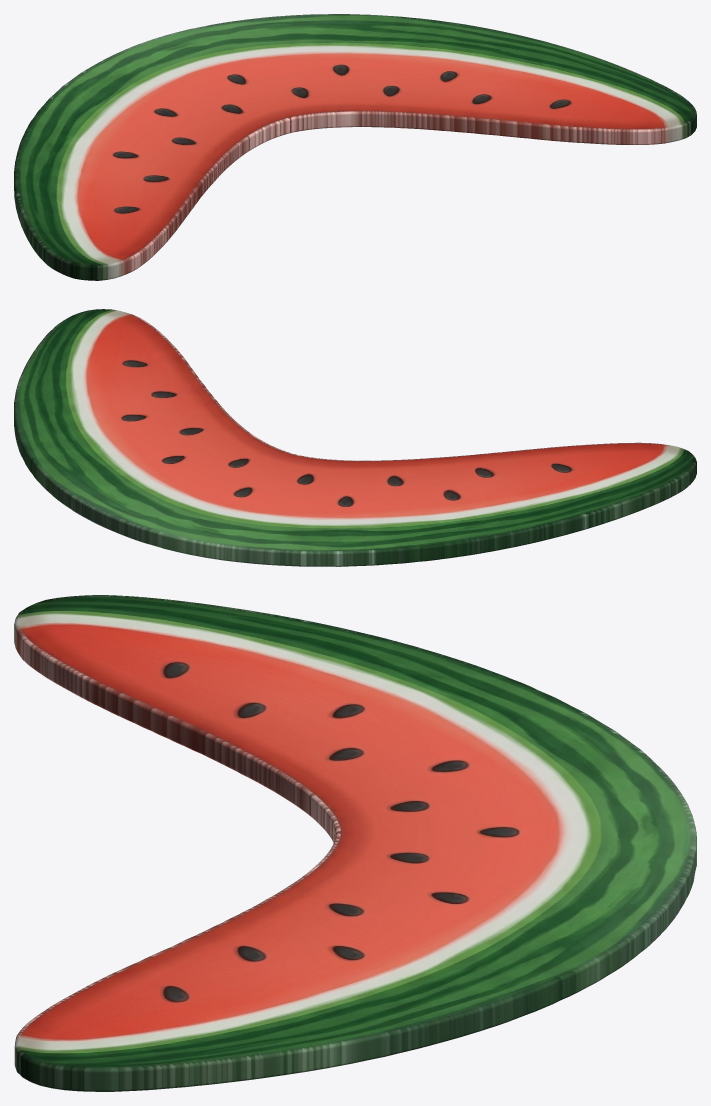
File: Boomerang_31.fbx
3 views of the same model, one above another, from view 1: azimuth 30°, elevation 25°; view 2: azimuth 150°, elevation 25°; view 3: azimuth 270°, elevation 25° (orthographic). The views are drawn at different scales.
Visible parts, largest first — view 1: Boomerang_31; view 2: Boomerang_31; view 3: Boomerang_31.
Part boxes in pixels (x1,y1,x2,y2): Boomerang_31: (14,14,696,280); Boomerang_31: (14,309,696,566); Boomerang_31: (14,595,696,1091).
Bounding box in the file's own units: 203 × 4.6 × 123.
1 material, 1 textured.
